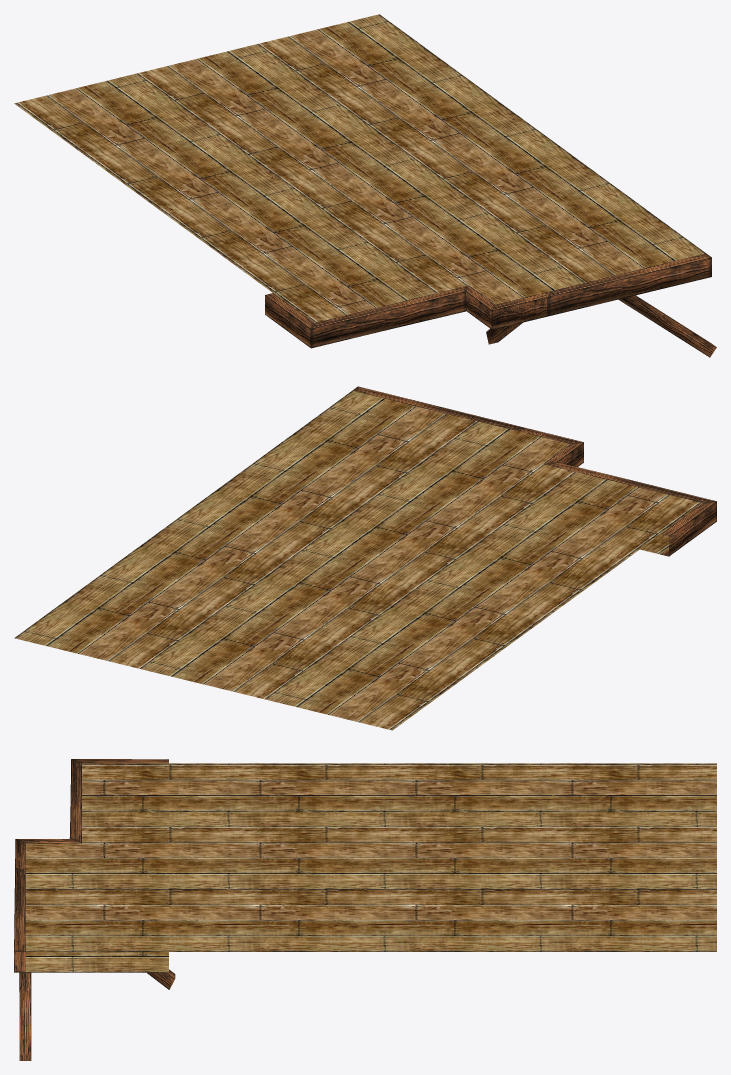
The model's file is LAKETOWN_WAREHOUSE3_PS_WH3_PLATFORM484847__GX.fbx.
3 renders of one model, top to bottom at view 1: azimuth 30°, elevation 25°; view 2: azimuth 150°, elevation 25°; view 3: azimuth 270°, elevation 25°, orthographic. The views are drawn at different scales.
Visible parts, largest first — view 1: LAKETOWN_WAREHOUSE3_PS_WH3_PLATFORM484847__GX; view 2: LAKETOWN_WAREHOUSE3_PS_WH3_PLATFORM484847__GX; view 3: LAKETOWN_WAREHOUSE3_PS_WH3_PLATFORM484847__GX.
Part boxes in pixels (x1=…): LAKETOWN_WAREHOUSE3_PS_WH3_PLATFORM484847__GX: x1=14, y1=14, x2=716, y2=357; LAKETOWN_WAREHOUSE3_PS_WH3_PLATFORM484847__GX: x1=14, y1=386, x2=716, y2=730; LAKETOWN_WAREHOUSE3_PS_WH3_PLATFORM484847__GX: x1=14, y1=759, x2=716, y2=1060.
Size of the model in its own units: 69906 by 18284 by 105445.
2 materials, 2 textured.
